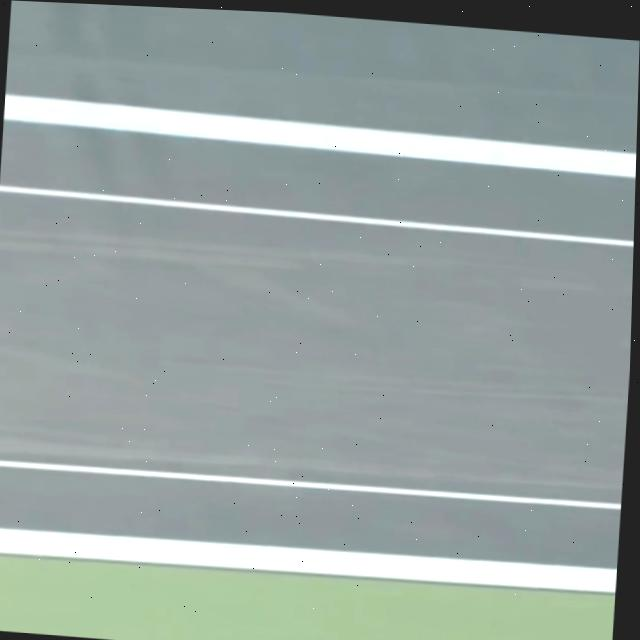center: (3, 93, 636, 176)
right: (0, 526, 617, 591)
